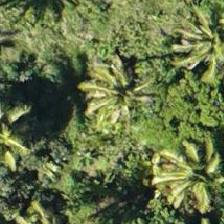Kelapa_Sawit: (77, 50, 167, 140), (149, 132, 223, 223), (0, 91, 52, 181)
